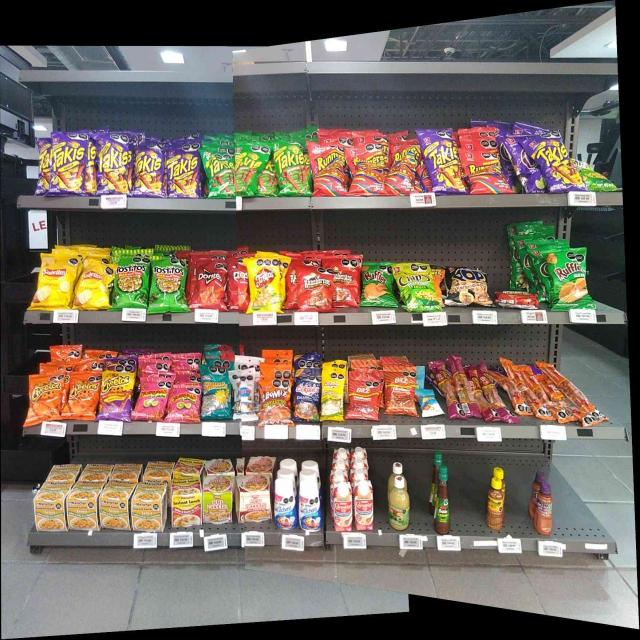bitzAlmendras: (420, 391, 440, 416)
bitzEnchilado90: (350, 372, 379, 419), (386, 370, 416, 414)
bitzEnchilado95: (510, 362, 594, 414)
bitzHabanero: (446, 362, 498, 418)
bokadosCacahuates: (295, 371, 320, 421)
botaneraChilito: (488, 478, 504, 529)
cheetosFlaminHot: (102, 363, 130, 419)
cheetosOriginal: (29, 375, 62, 418), (69, 372, 96, 418)
chipsFuego: (513, 136, 535, 192)
chipsPapatinas: (402, 265, 436, 311), (579, 162, 611, 189)
churrumais: (168, 385, 199, 419), (139, 379, 164, 418)
delPrimoSalsa: (388, 476, 409, 530)
doritosNacho: (196, 258, 224, 309)
fritosLimon: (252, 259, 279, 310)
leoCacahuates: (235, 370, 254, 419)
leoMix: (259, 379, 290, 423)
maruchanPollo: (35, 482, 66, 531), (135, 483, 167, 529), (70, 482, 99, 528), (102, 483, 131, 528)
maruchanRes: (172, 478, 202, 526)
nestleCarnation: (354, 482, 374, 530), (332, 482, 352, 530)
nestleLechera: (300, 481, 322, 531), (274, 480, 296, 529)
nissinCamaron: (203, 478, 232, 524)
nissinRes: (238, 476, 271, 522)
popKarameladas: (446, 267, 490, 306)
rancheritos: (300, 266, 330, 310), (333, 257, 358, 304), (498, 291, 537, 306)
rufflesQueso: (551, 250, 585, 307), (362, 263, 392, 306)
runners: (313, 143, 345, 196), (465, 151, 504, 193), (350, 144, 382, 194), (387, 144, 417, 192)
sabritasOriginal: (40, 256, 76, 306), (81, 261, 108, 307)
salsaBufalo: (434, 466, 450, 534)
semillasCalabaza: (323, 369, 344, 420)
semillasGirasol: (203, 368, 229, 417)
tajinDulce: (536, 484, 552, 534)
takisFuego: (537, 132, 573, 189), (426, 130, 459, 192), (52, 132, 83, 193), (97, 133, 126, 193), (168, 144, 198, 197), (134, 144, 162, 196)
takisOriginal: (275, 142, 306, 194), (207, 146, 234, 197), (237, 144, 259, 194)
tostitos: (114, 255, 148, 308), (152, 259, 184, 308)
